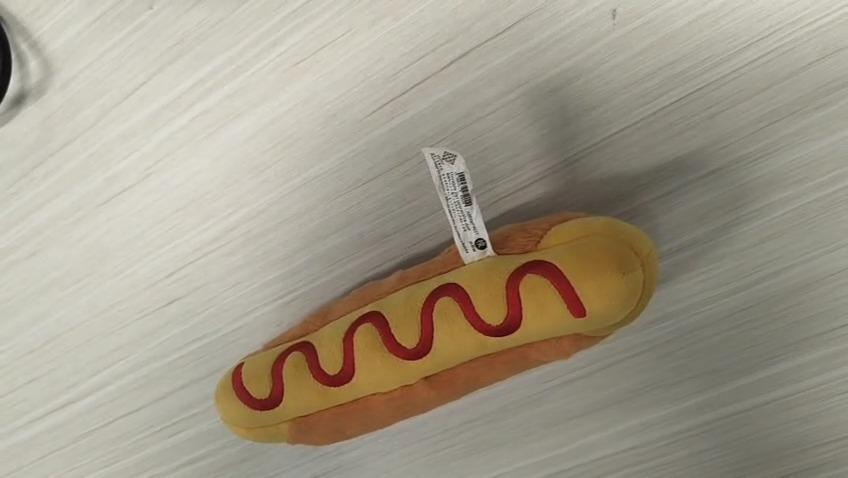hotdog: (213, 207, 660, 446)
